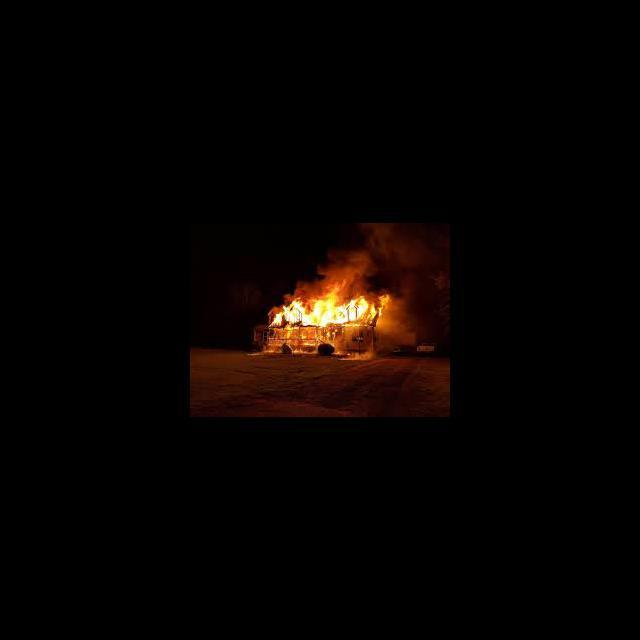Fire: (266, 288, 394, 330)
Smoke: (293, 223, 427, 288), (392, 289, 426, 342), (336, 348, 377, 362), (246, 347, 274, 358)
